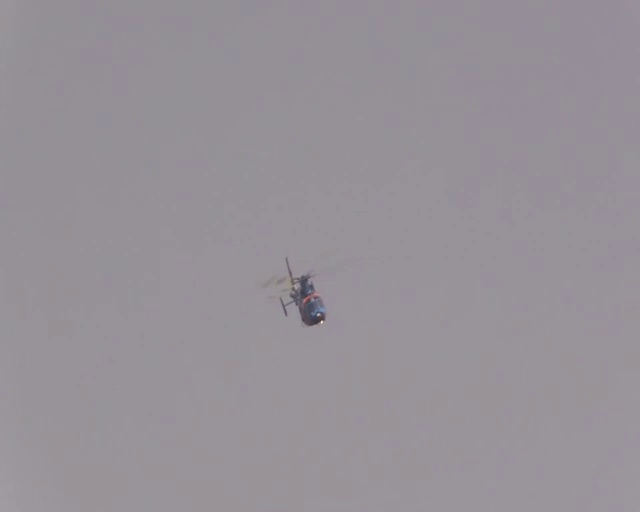HELICOPTER: (262, 256, 326, 327)
